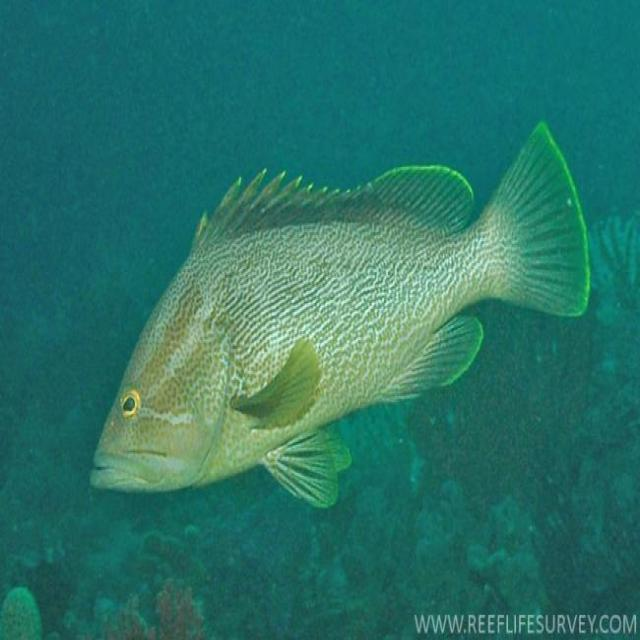ikan: (88, 118, 592, 510)
